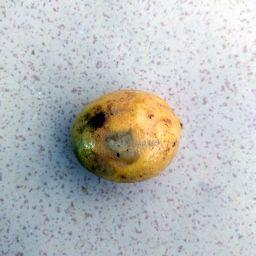lemon: (68, 87, 186, 185)
